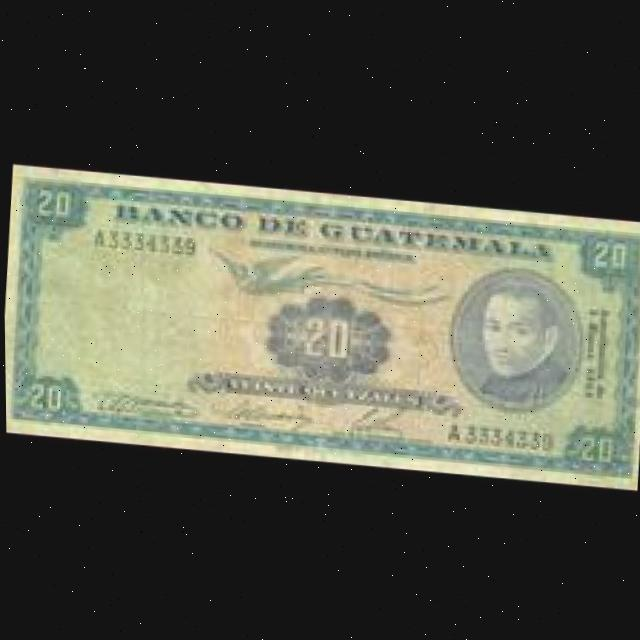banknote: (2, 158, 640, 487)
